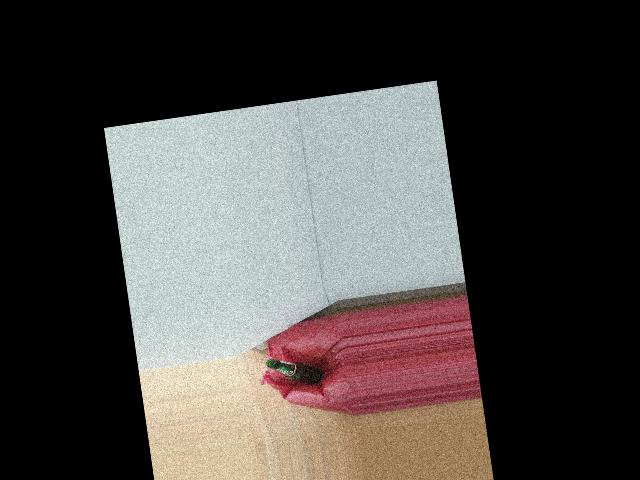beer: (265, 352, 322, 390)
